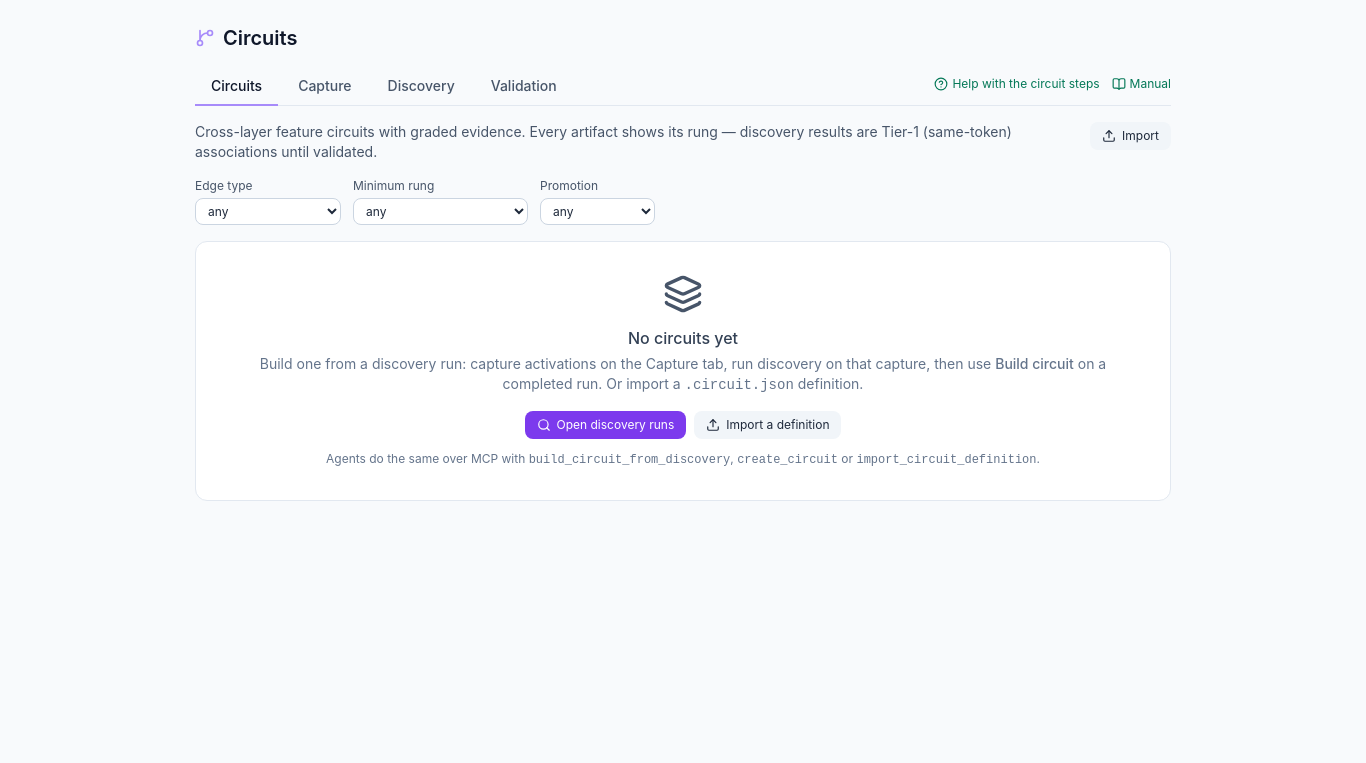
Test: Build circuit from a discovery run › after a build, "Open in Circuits" shows the refreshed list
The width and height of the screenshot is (1366, 763).
Click the button "Open discovery runs": (605,425) [524,411,686,439]
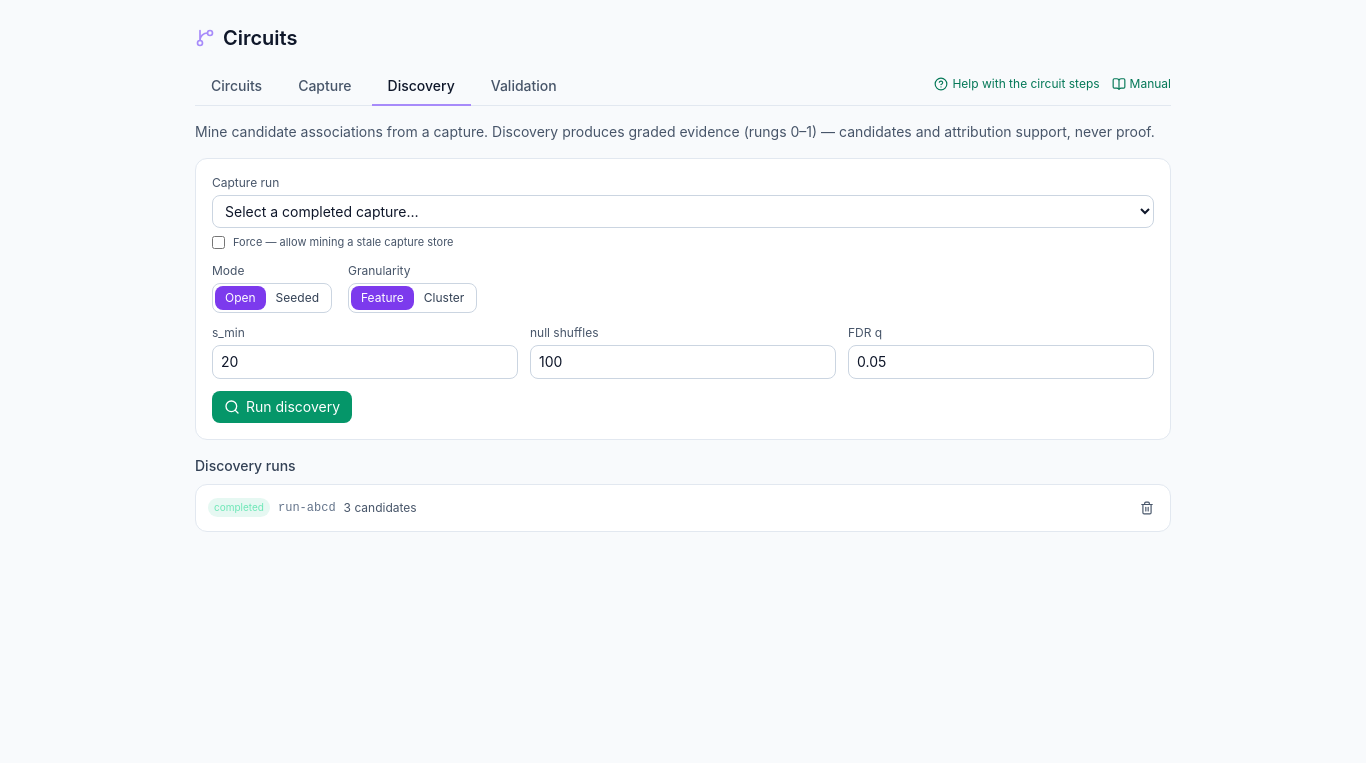
Click the text "run-abcd": (307,508) [278,500,336,516]
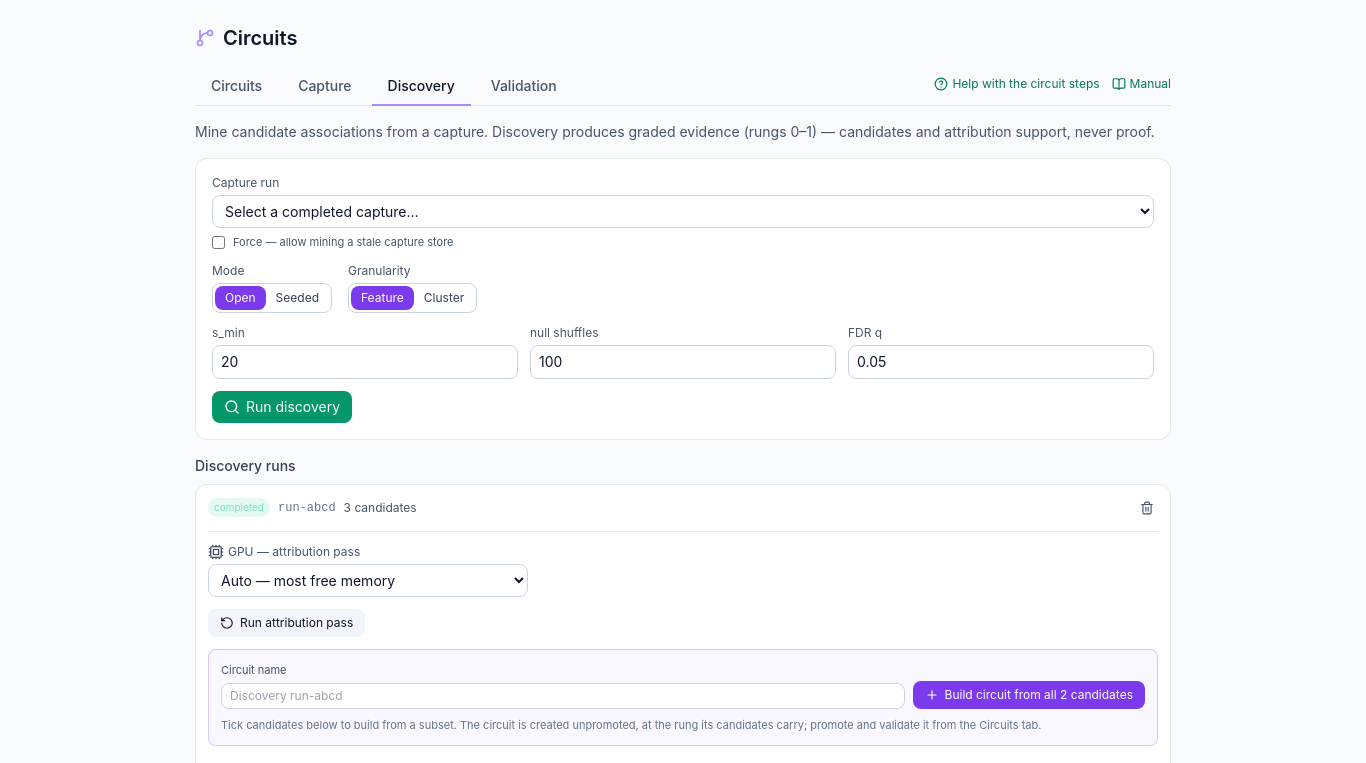
Click the button "Build circuit from all 2 candidates": (1029,695) [912,681,1145,709]
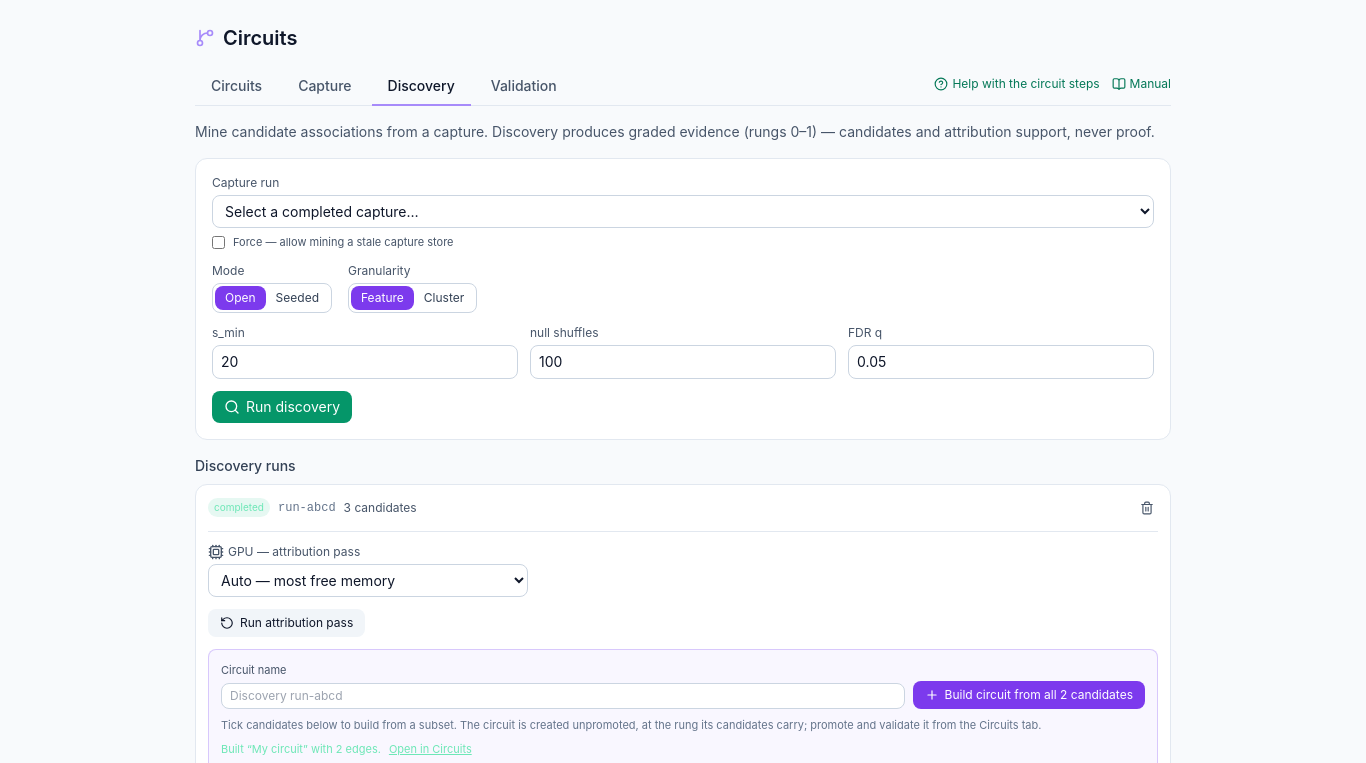
Click the button "Open in Circuits": (430,749) [389,741,472,758]
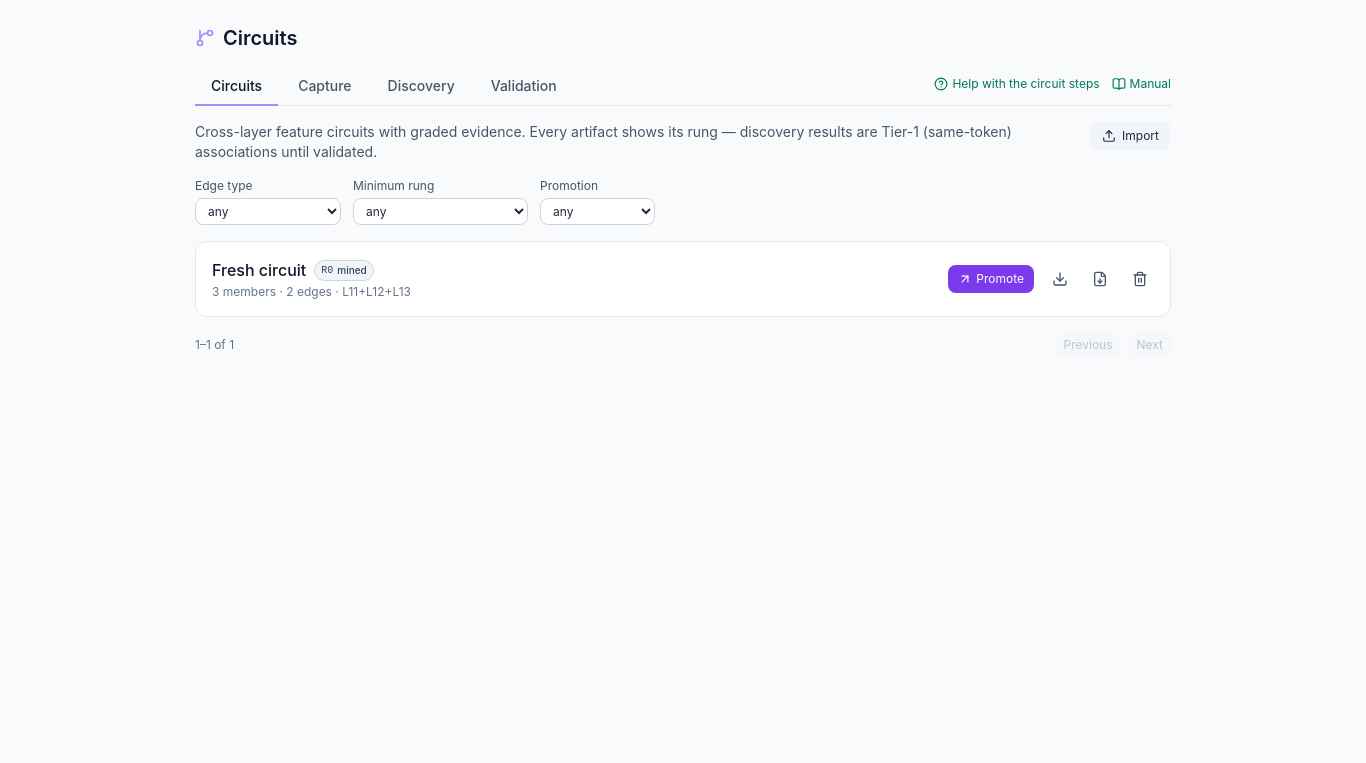
Result: the text "Fresh circuit" is shown at [212,258,306,282]
